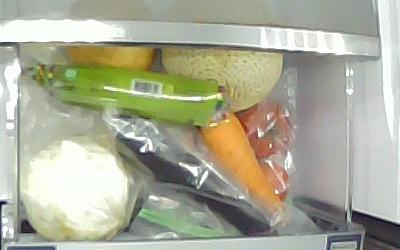cabbage_vinyl: (19, 134, 130, 240)
carrot: (197, 109, 281, 207)
eggplant_vinyl: (109, 112, 279, 237)
melon: (159, 45, 283, 113)
pear: (64, 44, 155, 71)
prune_vinyl: (255, 159, 289, 204)
tomato_vinyl: (231, 97, 291, 159)
zucchini: (43, 64, 227, 124)
